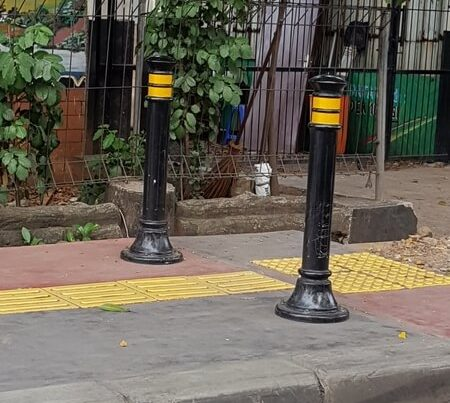bollard: (278, 64, 353, 324), (121, 51, 185, 269)
